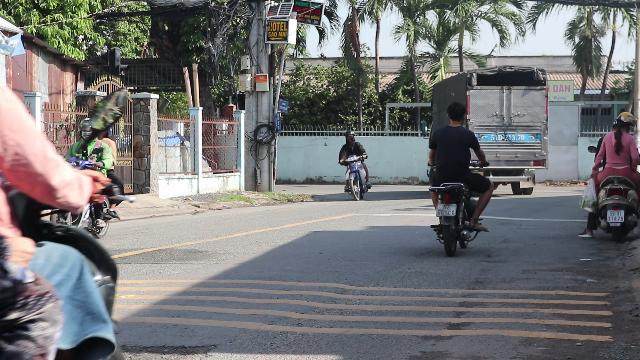helmet: (612, 110, 636, 132)
licenseplate: (436, 203, 456, 217), (607, 210, 623, 222)
motorcyclist: (423, 99, 492, 254), (580, 109, 640, 240)
nohelmet: (445, 100, 467, 124)
